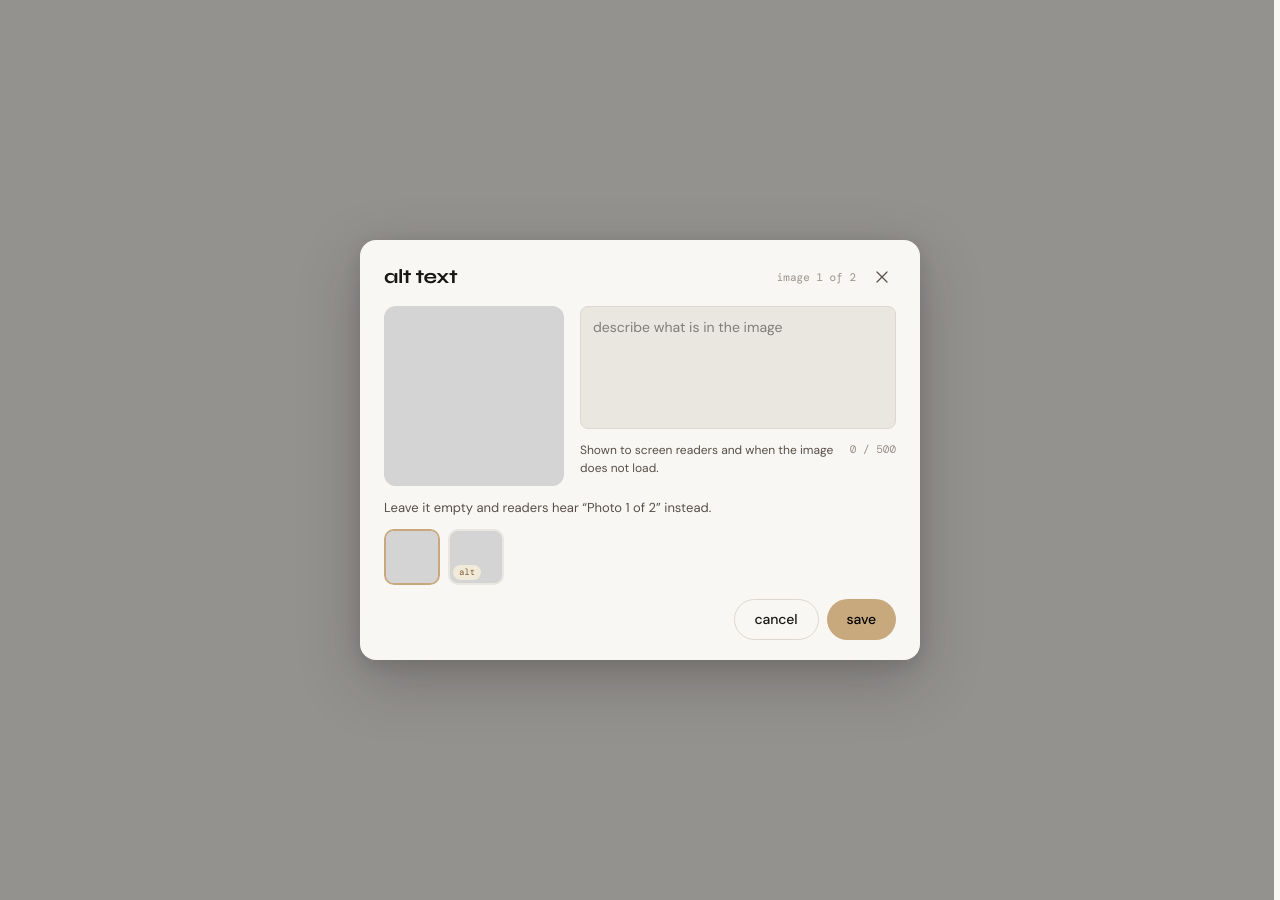
it: AltTextDialog › stays open and shows the reason when a save is refused
The image size is (1280, 900).
Type "x" into the text box named "alt text for image 1" at point(738, 368), box 580,306 -> 896,429
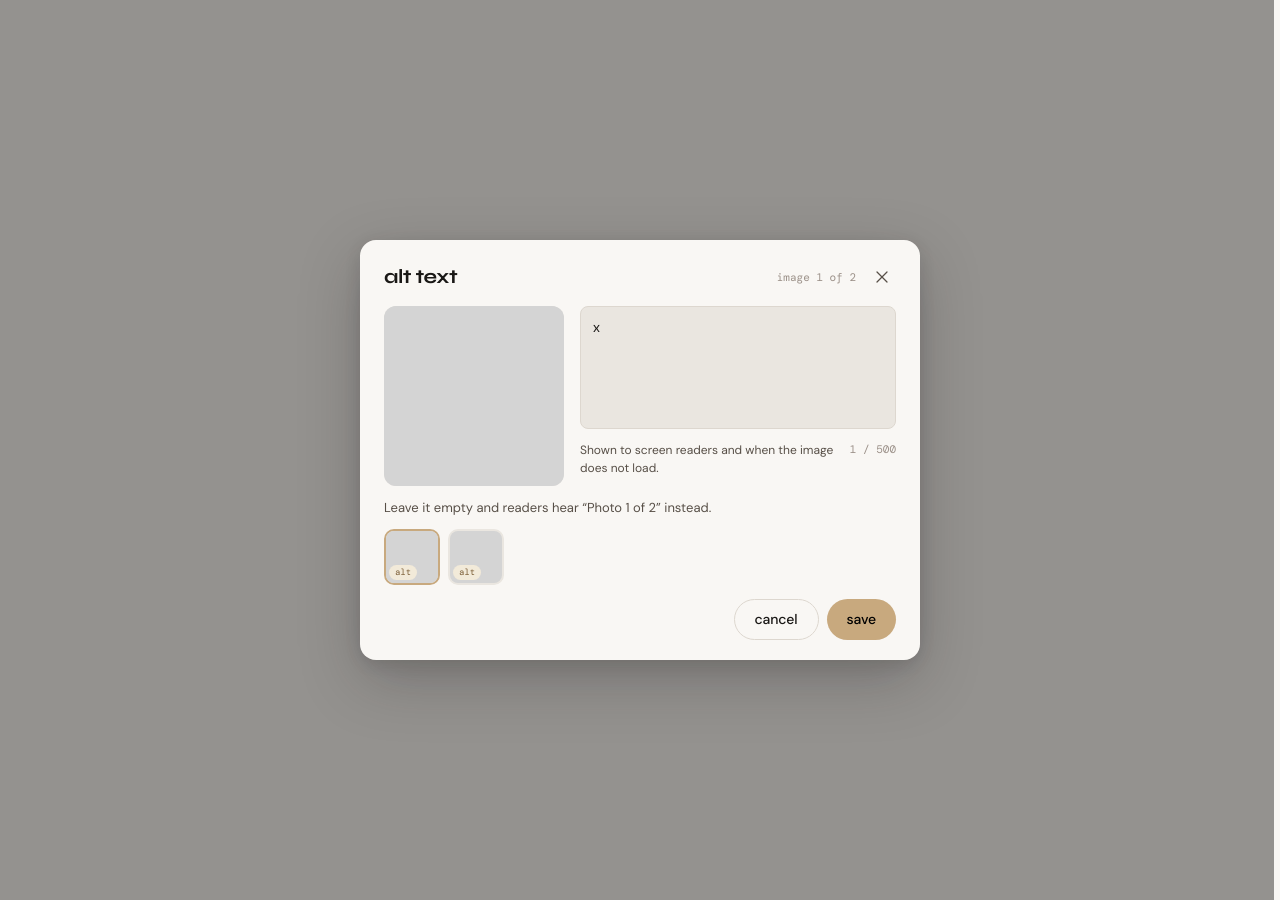
Click the button "save" at point(861, 620), box 826,599 -> 896,640
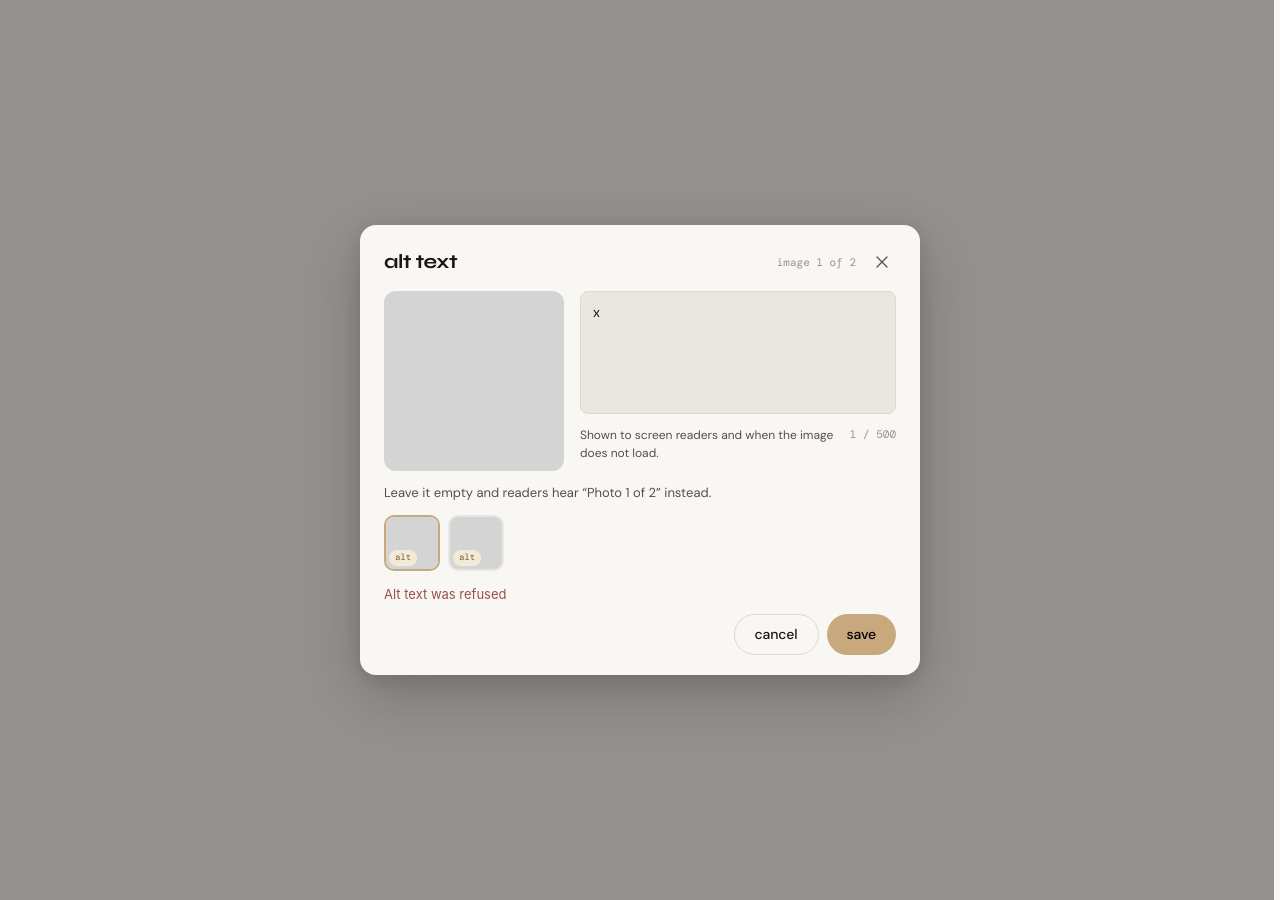
Now the message reads "Alt text was refused", box 384,586 -> 506,602
